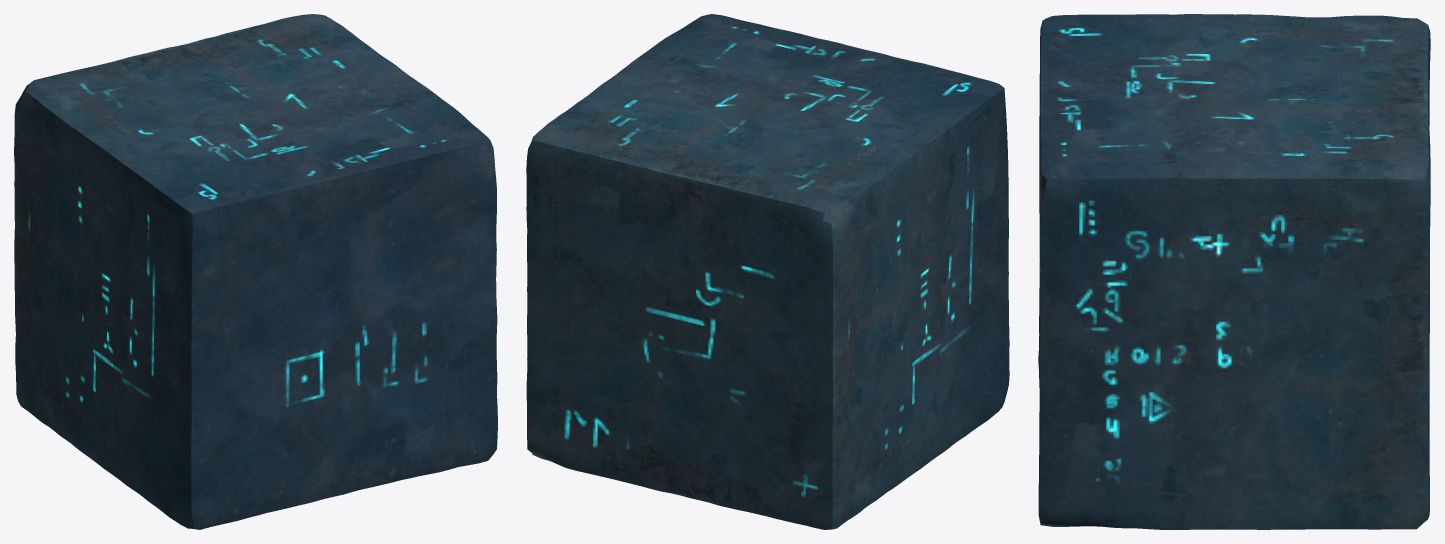
File: PlayerTag-UInew.glb
The picture shows the model from 3 angles, left to right: view 1: azimuth 30°, elevation 25°; view 2: azimuth 150°, elevation 25°; view 3: azimuth 270°, elevation 25°; orthographic projection. The views are drawn at different scales.
Parts seen in each view (by area): view 1: QC; view 2: QC; view 3: QC.
Part boxes in pixels (x1,y1,x2,y2): QC: (14,14,497,529); QC: (526,14,1009,529); QC: (1038,14,1430,529).
Size of the model in its own units: 0.7265 by 0.7259 by 0.7283.
Materials: 1 (1 with a texture image).
